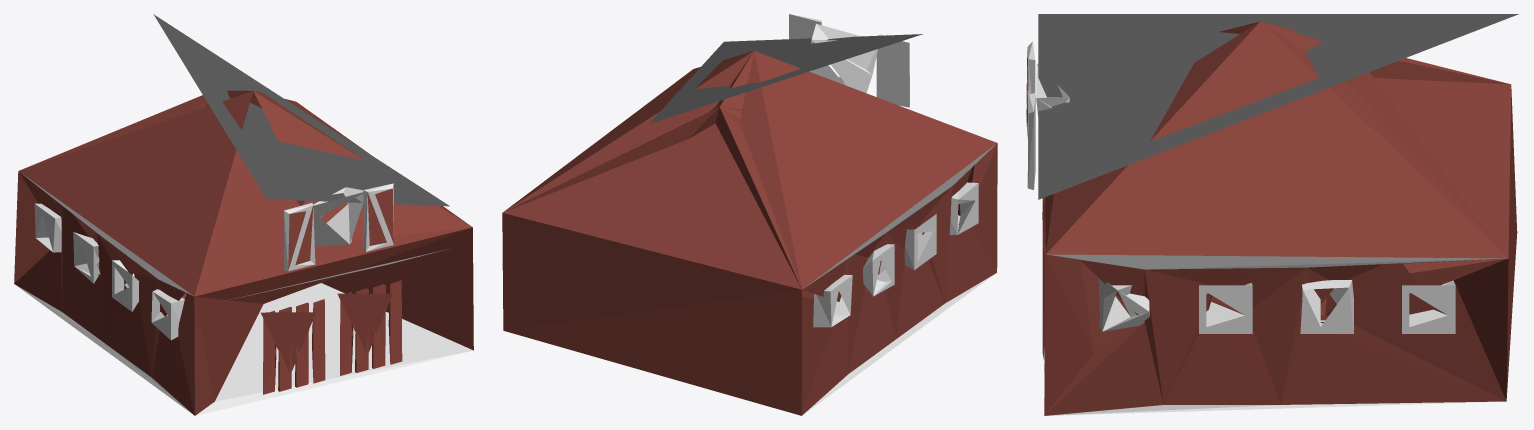
File: Barn.lod3.glb
3 views of the same model, side by side, from view 1: azimuth 30°, elevation 25°; view 2: azimuth 150°, elevation 25°; view 3: azimuth 270°, elevation 25° (orthographic). The views are drawn at different scales.
Parts seen in each view (by area): view 1: Barn, Barn_Door2, Barn_Door, Barn_Window, Barn_Window2; view 2: Barn, Barn_Window2, Barn_Window; view 3: Barn, Barn_Window, Barn_Window2, Barn_Door.
Part boxes in pixels (left/top/right/bottom): Barn: left=14, top=14, right=473, bottom=415; Barn_Door2: left=261, top=299, right=325, bottom=394; Barn_Door: left=337, top=280, right=402, bottom=375; Barn_Window: left=363, top=183, right=393, bottom=251; Barn_Window2: left=284, top=203, right=315, bottom=271; Barn: left=502, top=23, right=997, bottom=415; Barn_Window2: left=876, top=34, right=909, bottom=107; Barn_Window: left=789, top=14, right=821, bottom=39; Barn: left=1036, top=14, right=1518, bottom=415; Barn_Window: left=1027, top=93, right=1035, bottom=189; Barn_Window2: left=1026, top=41, right=1035, bottom=138; Barn_Door: left=1042, top=212, right=1045, bottom=359.
Size of the model in its own units: 7.18 by 5.71 by 8.17.
